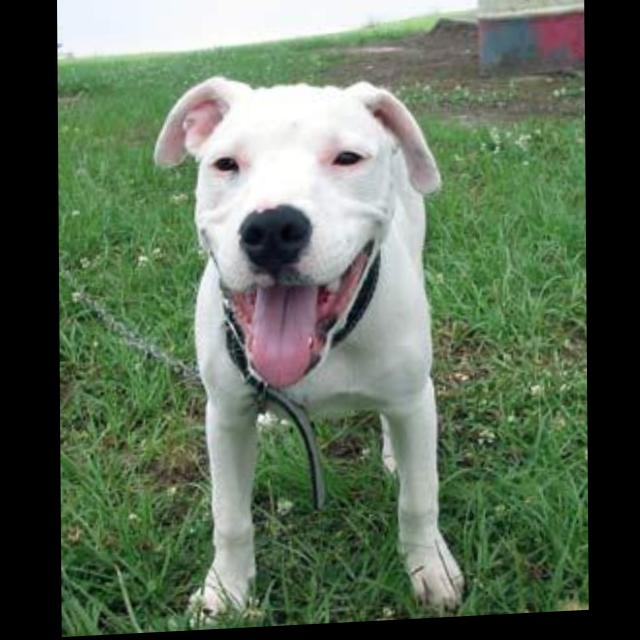amstaff: (151, 68, 466, 635)
